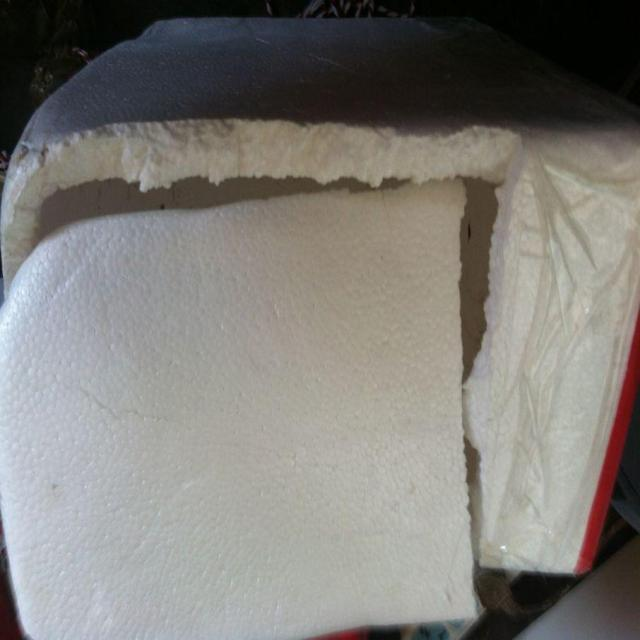styrofoam: (1, 13, 638, 637)
